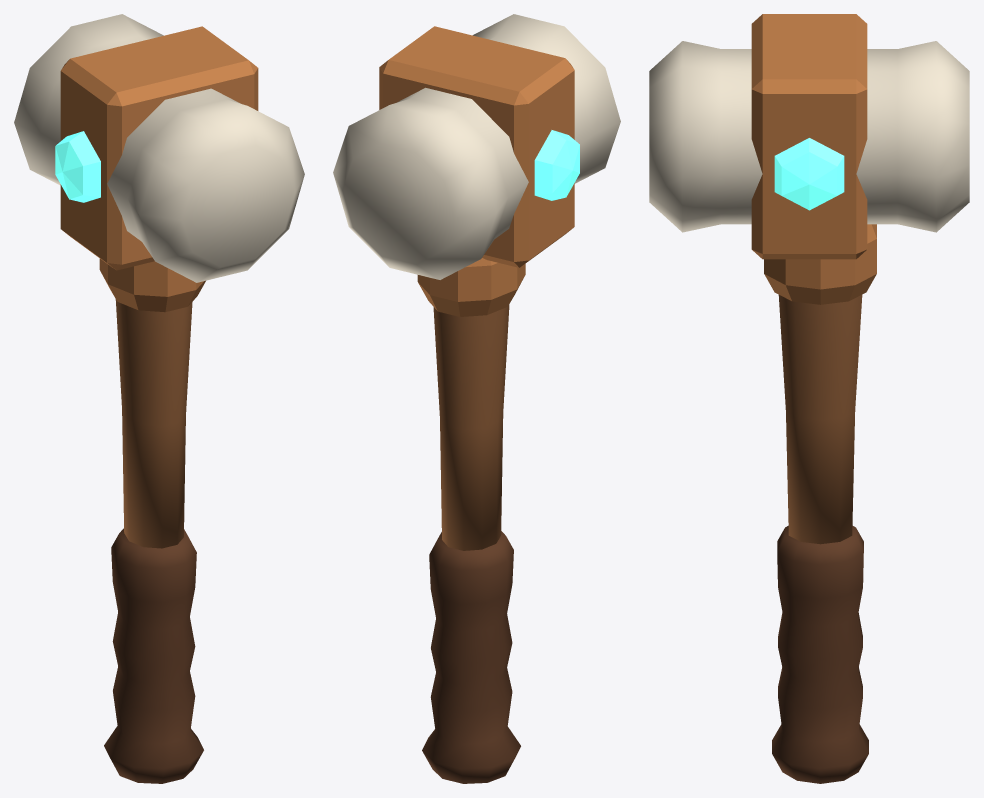
File: StarterCracker_Pilot.fbx
3 views of the same model, side by side, from view 1: azimuth 30°, elevation 25°; view 2: azimuth 150°, elevation 25°; view 3: azimuth 270°, elevation 25° (orthographic). The views are drawn at different scales.
Visible parts, largest first — view 1: Head, Band, Grip, Handle, Accent; view 2: Head, Band, Grip, Handle, Accent; view 3: Head, Band, Grip, Handle, Accent.
Part boxes in pixels (left/top/right/bottom): Head: left=14, top=14, right=304, bottom=282; Band: left=60, top=26, right=258, bottom=312; Grip: left=104, top=528, right=203, bottom=783; Handle: left=115, top=299, right=192, bottom=548; Accent: left=55, top=131, right=100, bottom=202; Head: left=333, top=14, right=620, bottom=279; Band: left=379, top=26, right=574, bottom=316; Grip: left=422, top=531, right=520, bottom=783; Handle: left=433, top=305, right=509, bottom=550; Accent: left=534, top=130, right=579, bottom=200; Head: left=649, top=41, right=969, bottom=232; Band: left=751, top=14, right=876, bottom=304; Grip: left=772, top=525, right=868, bottom=783; Handle: left=778, top=295, right=862, bottom=544; Accent: left=774, top=138, right=844, bottom=210.
Bounding box in the file's own units: 0.82 × 2.88 × 1.16.
